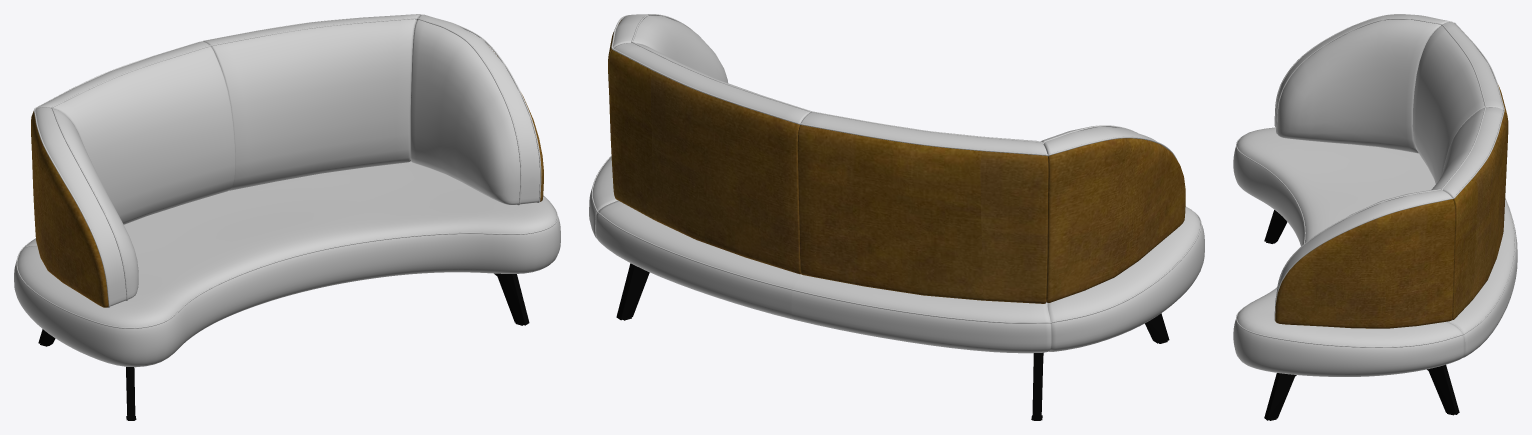
Rendered from home.gltf.
3 views of the same model, side by side, from view 1: azimuth 30°, elevation 25°; view 2: azimuth 150°, elevation 25°; view 3: azimuth 270°, elevation 25° (orthographic). The views are drawn at different scales.
Parts seen in each view (by area): view 1: sofa_25, legs_sofa_25; view 2: sofa_25, legs_sofa_25; view 3: sofa_25, legs_sofa_25.
Boxes of the visible parts, box(x1,y1,x2,y2) form: sofa_25: box(14, 14, 560, 367); legs_sofa_25: box(38, 273, 529, 420); sofa_25: box(589, 14, 1204, 353); legs_sofa_25: box(616, 263, 1169, 420); sofa_25: box(1233, 14, 1517, 376); legs_sofa_25: box(1264, 210, 1459, 420).
Size of the model in its own units: 1.85 by 0.8761 by 1.01.
